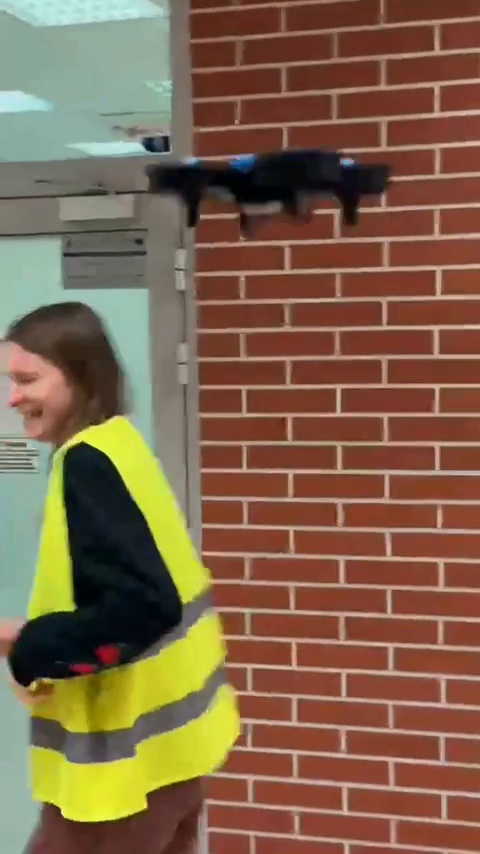drone: (140, 144, 388, 231)
vest: (0, 303, 246, 854)
